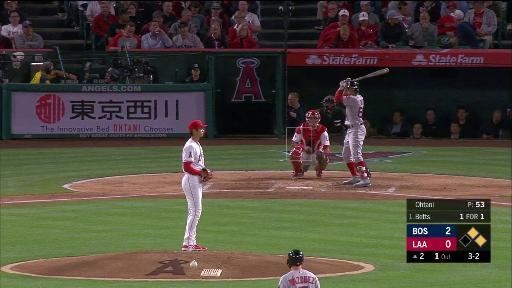pitcher: (181, 119, 216, 253)
